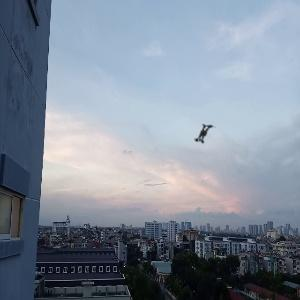drone: (170, 101, 239, 170)
